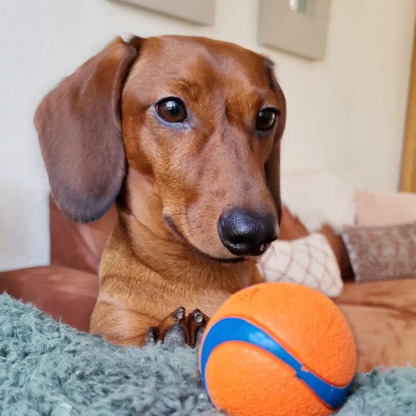dachshund: (20, 26, 356, 348)
